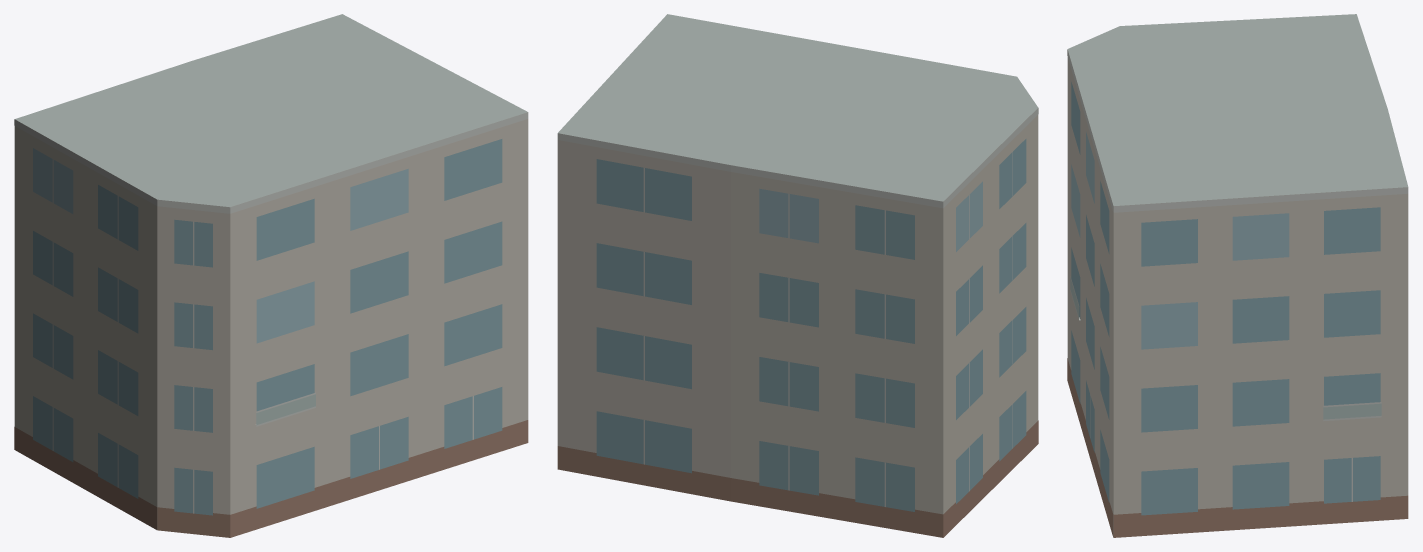
File: survey-upis-32914288.glb
3 renders of one model, left to right at view 1: azimuth 30°, elevation 25°; view 2: azimuth 150°, elevation 25°; view 3: azimuth 270°, elevation 25°, orthographic.
Parts seen in each view (by area): view 1: survey-upis-32914288.tmp; view 2: survey-upis-32914288.tmp; view 3: survey-upis-32914288.tmp.
Boxes of the visible parts, <box> form: survey-upis-32914288.tmp: <box>14,14,528,537</box>; survey-upis-32914288.tmp: <box>557,14,1038,537</box>; survey-upis-32914288.tmp: <box>1067,14,1408,537</box>.
Size of the model in its own units: 15.17 by 12.2 by 11.37.
